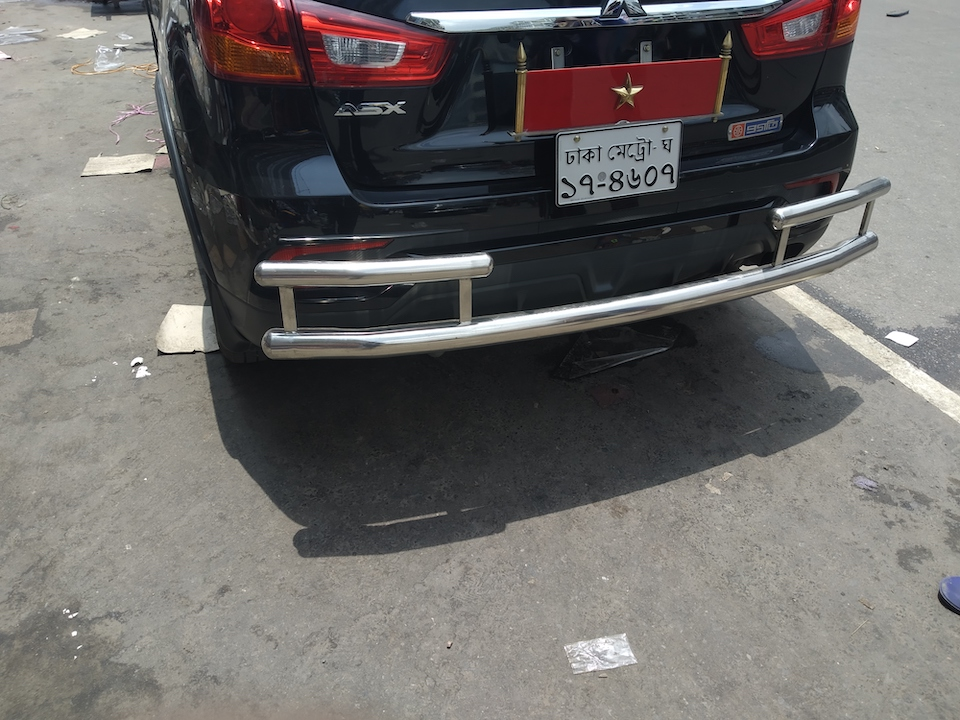registration_plate: (555, 119, 683, 208)
